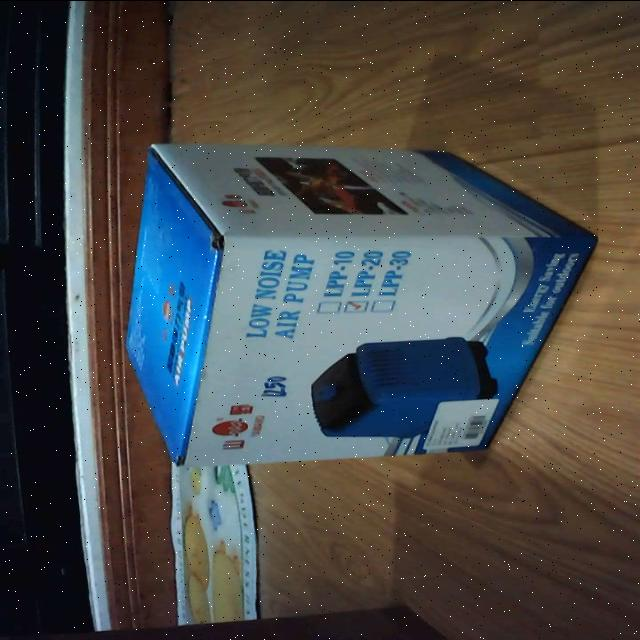YAMANO_LPP_20: (113, 135, 599, 471)
